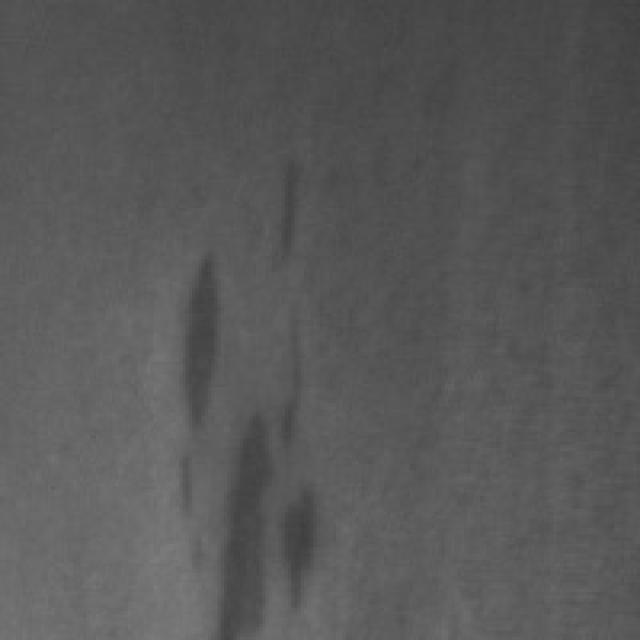inclusion: (192, 298, 323, 630), (166, 230, 234, 442), (256, 134, 307, 282)
